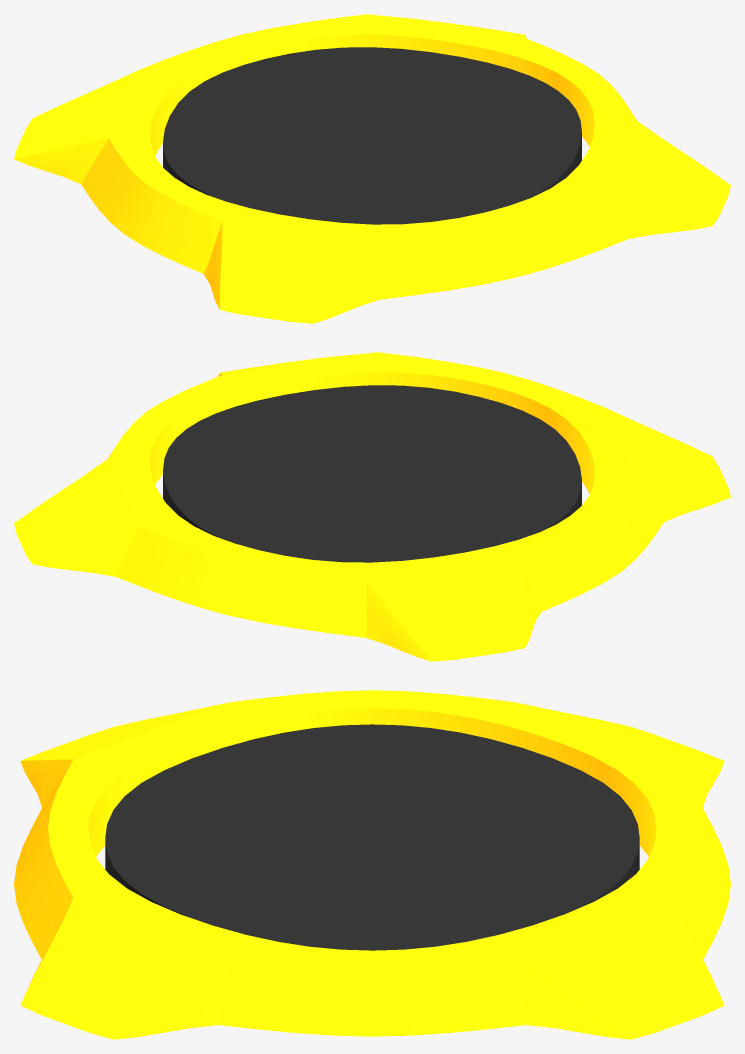
The model's file is CrasherSpawner_3D.fbx.
The picture shows the model from 3 angles, top to bottom: view 1: azimuth 30°, elevation 25°; view 2: azimuth 150°, elevation 25°; view 3: azimuth 270°, elevation 25°; orthographic projection. The views are drawn at different scales.
Visible parts, largest first — view 1: Circle; view 2: Circle; view 3: Circle.
Boxes of the visible parts, x1=… form: Circle: x1=14, y1=14, x2=730, y2=323; Circle: x1=14, y1=352, x2=730, y2=661; Circle: x1=14, y1=690, x2=730, y2=1039.
Bounding box in the file's own units: 489 × 41.45 × 473.
